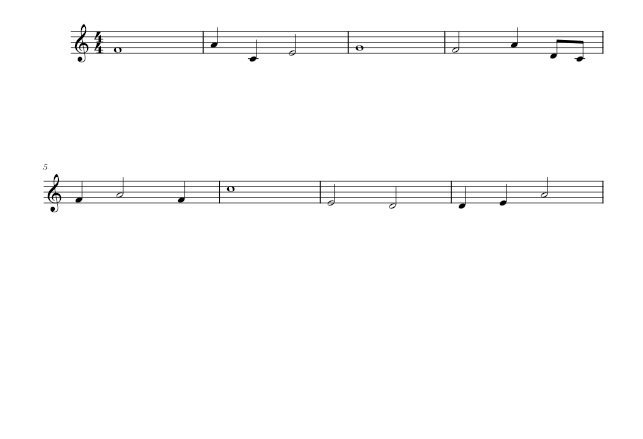Treble Clef: (71, 18, 92, 67), (44, 172, 66, 216)
